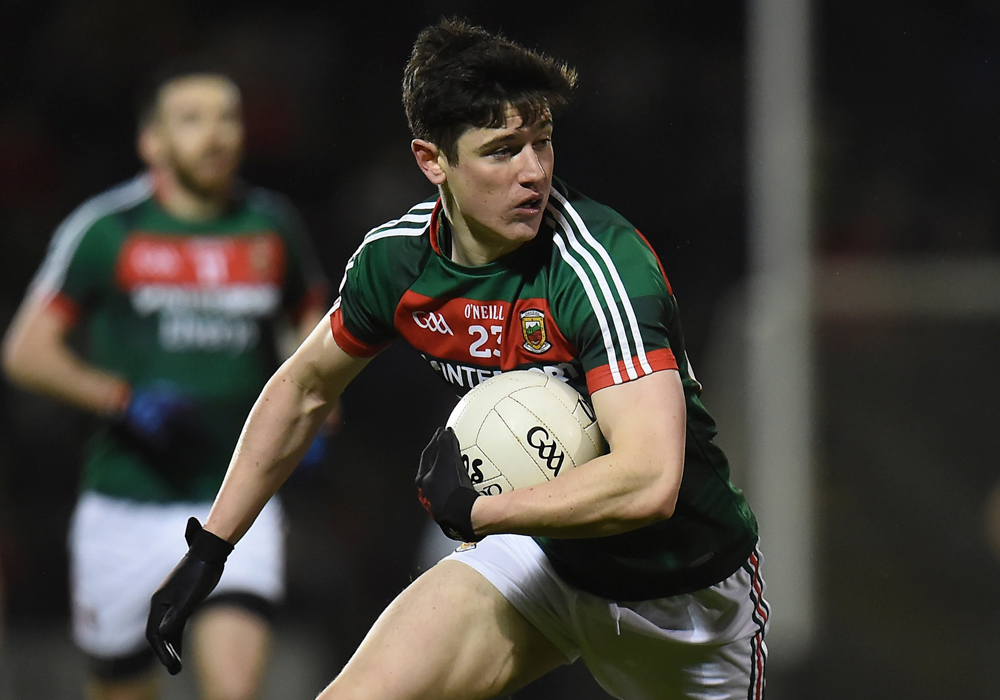ball: (415, 371, 601, 516)
player: (324, 24, 819, 669), (63, 59, 291, 654)
